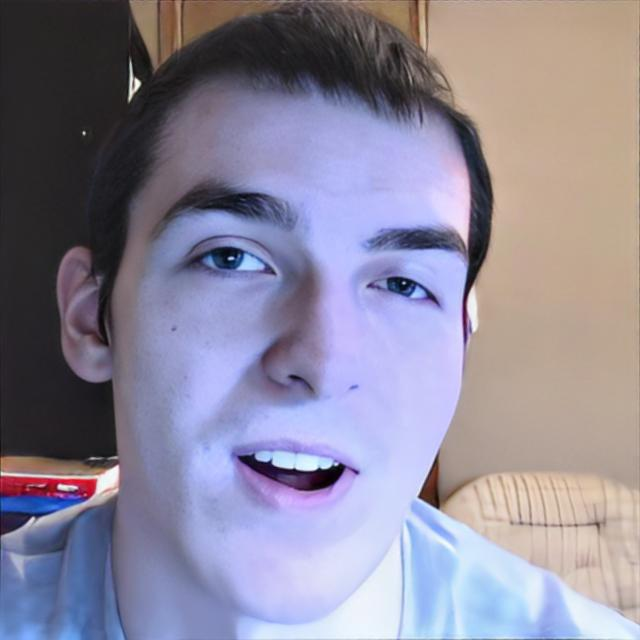surprise: (113, 87, 473, 628)
